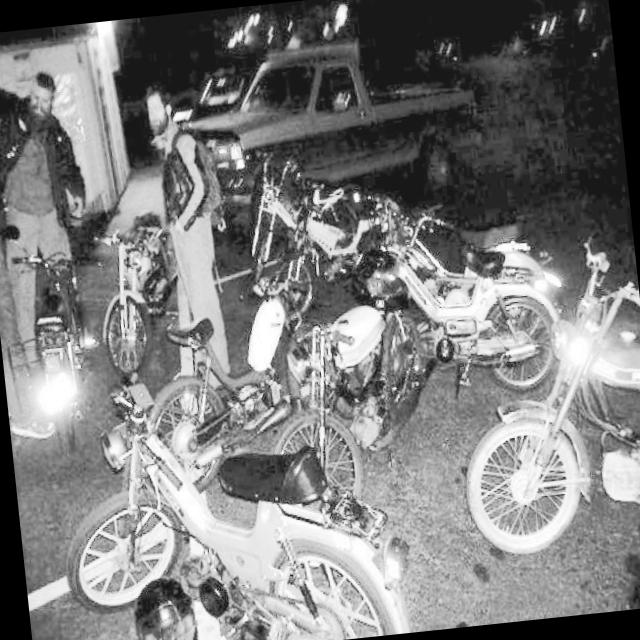Motorcycle: (45, 333, 415, 640), (435, 242, 640, 560), (345, 200, 564, 418), (280, 175, 428, 308), (245, 145, 392, 277), (82, 210, 186, 388)
